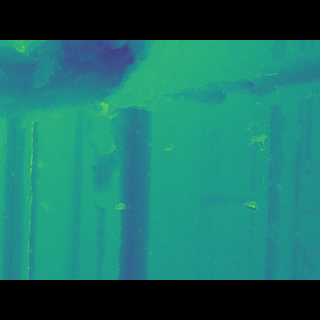Loch: (0, 69, 320, 136), (170, 179, 320, 222), (77, 122, 130, 240), (14, 153, 68, 195)
